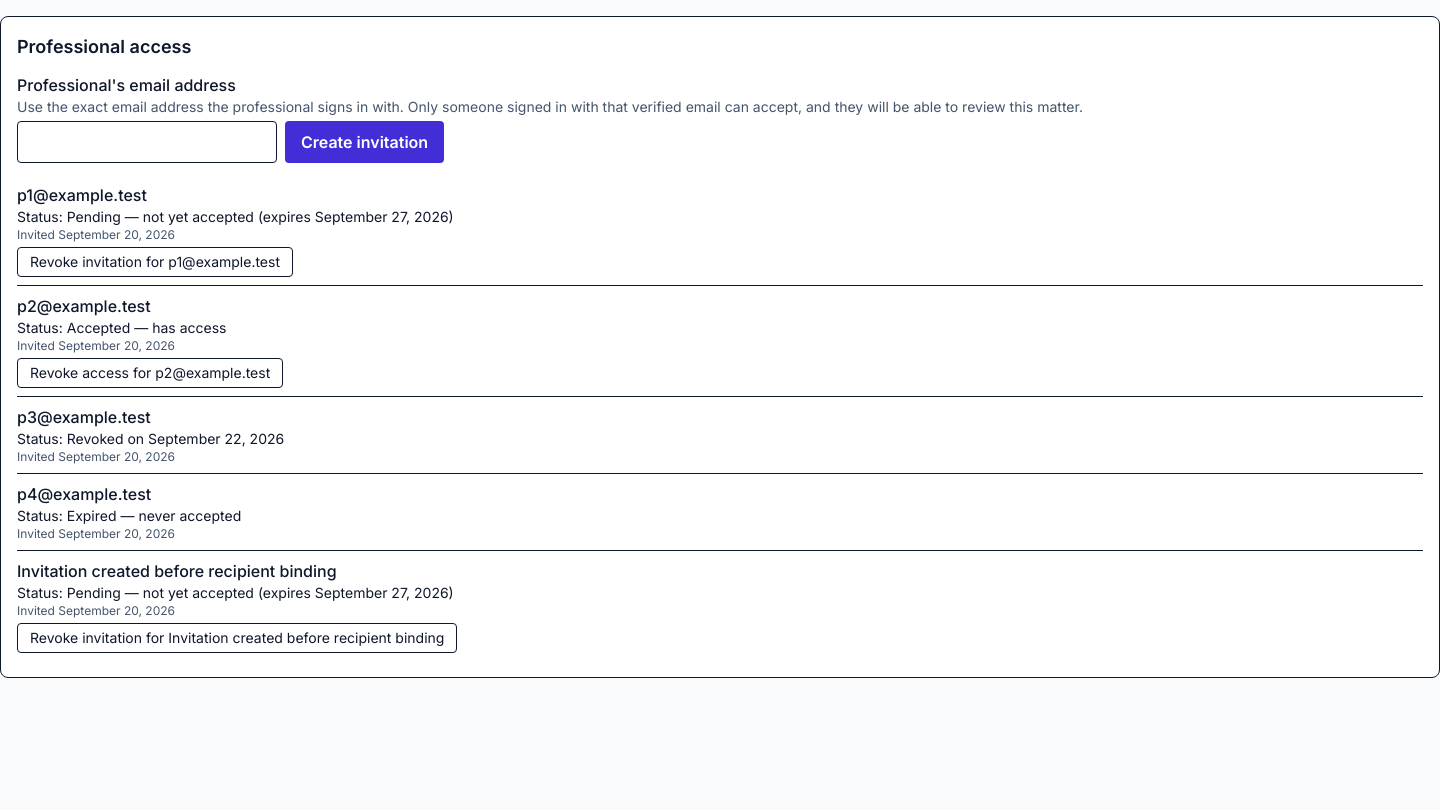
Stage 10 slice 8: ProfessionalAccessPanel › cancel leaves everything as it was
Click the button "Revoke access for p2@example.test".
click(150, 373)  # box [17,358,283,388]
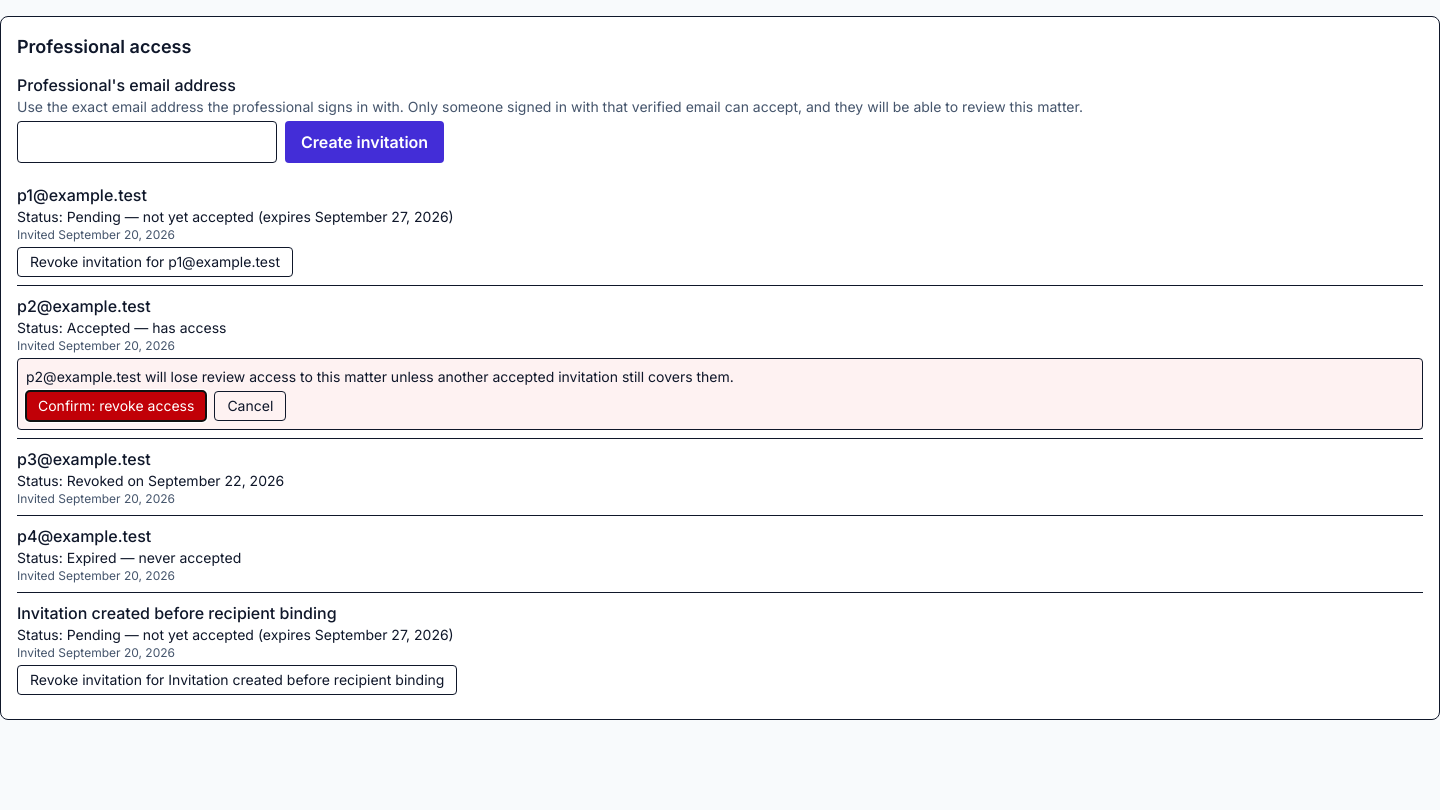
Click the button "Cancel".
click(250, 406)  # box [214,391,286,421]
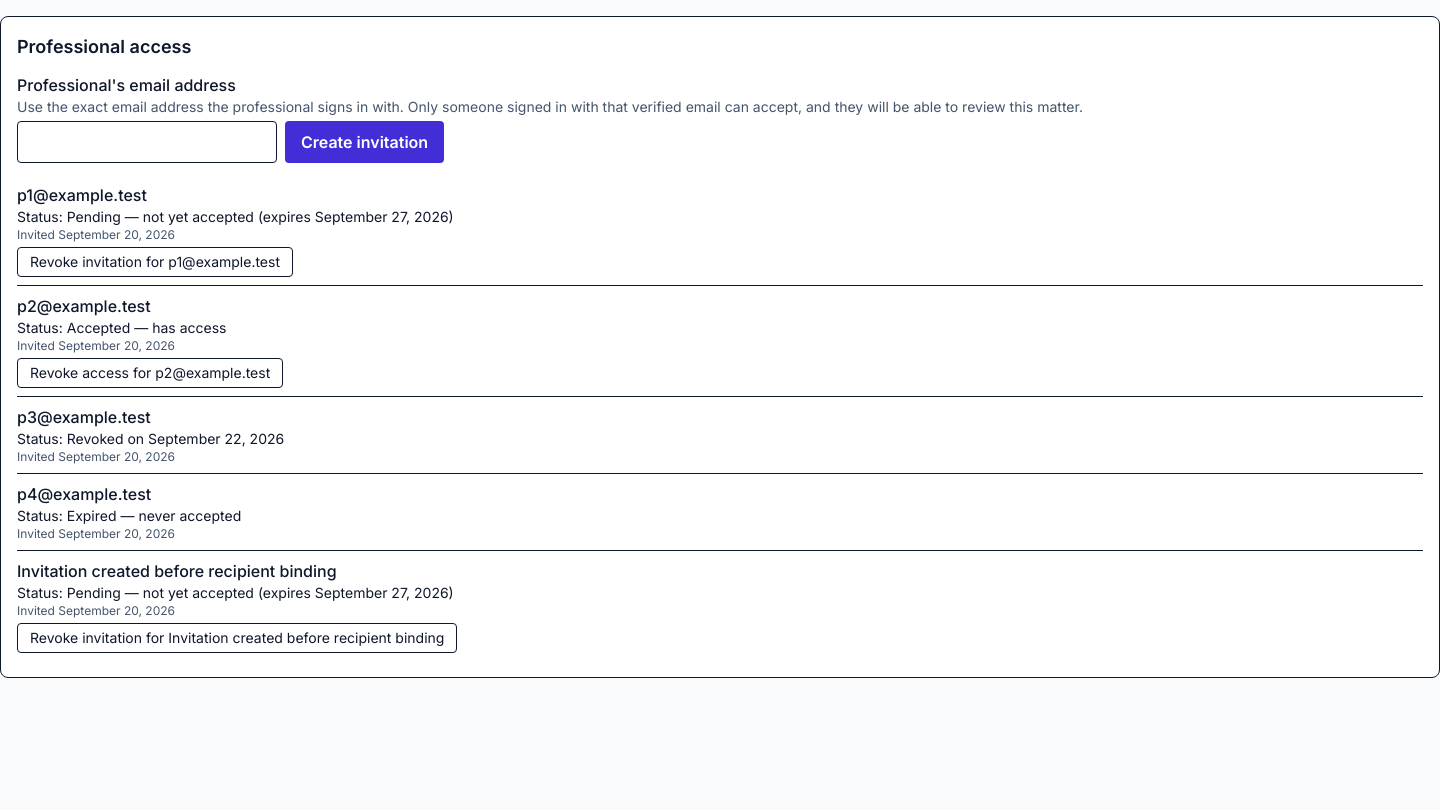
Expected: the button "Revoke access for p2@example.test" is shown, [17,358,283,388]
